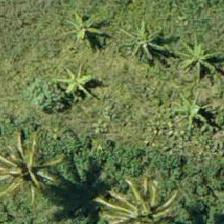coconut_tree: (0, 119, 66, 209), (109, 167, 199, 223)
